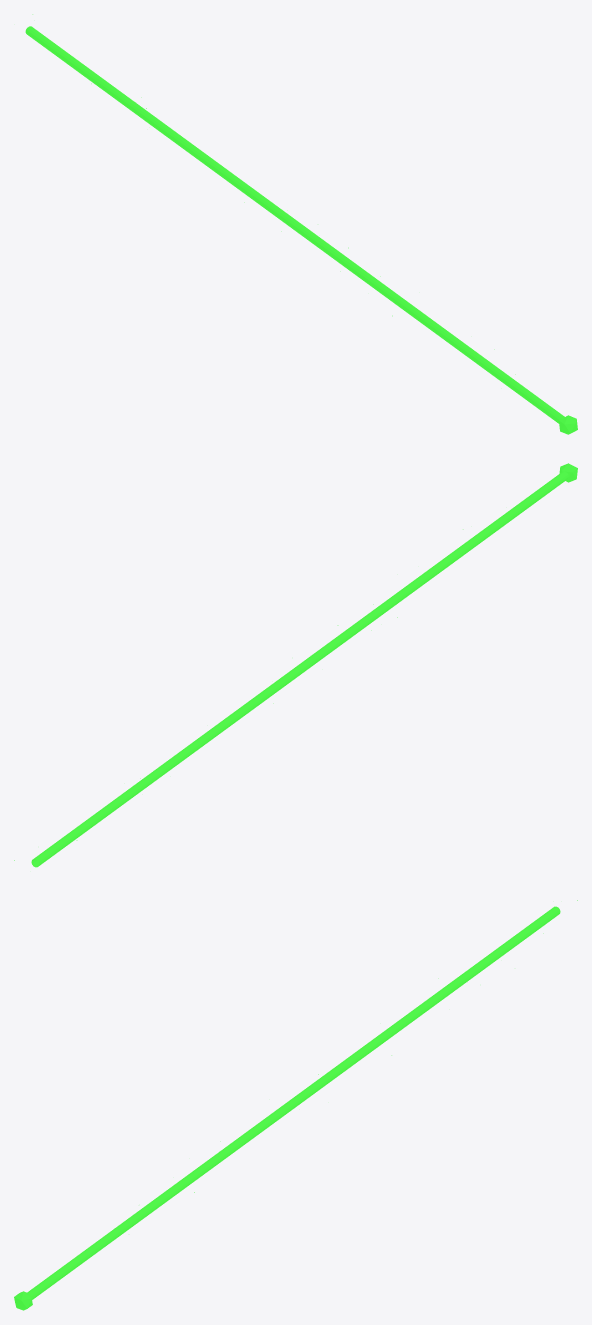
The model's file is laser.glb.
3 views of the same model, one above another, from view 1: azimuth 30°, elevation 25°; view 2: azimuth 150°, elevation 25°; view 3: azimuth 330°, elevation 25° (orthographic).
Parts seen in each view (by area): view 1: Beam; view 2: Beam; view 3: Beam.
Boxes of the visible parts, <box> form: Beam: <box>25,26,564,423</box>; Beam: <box>31,471,568,867</box>; Beam: <box>27,906,560,1299</box>.
Bounding box in the file's own units: 0.387 × 0.363 × 10.28.
